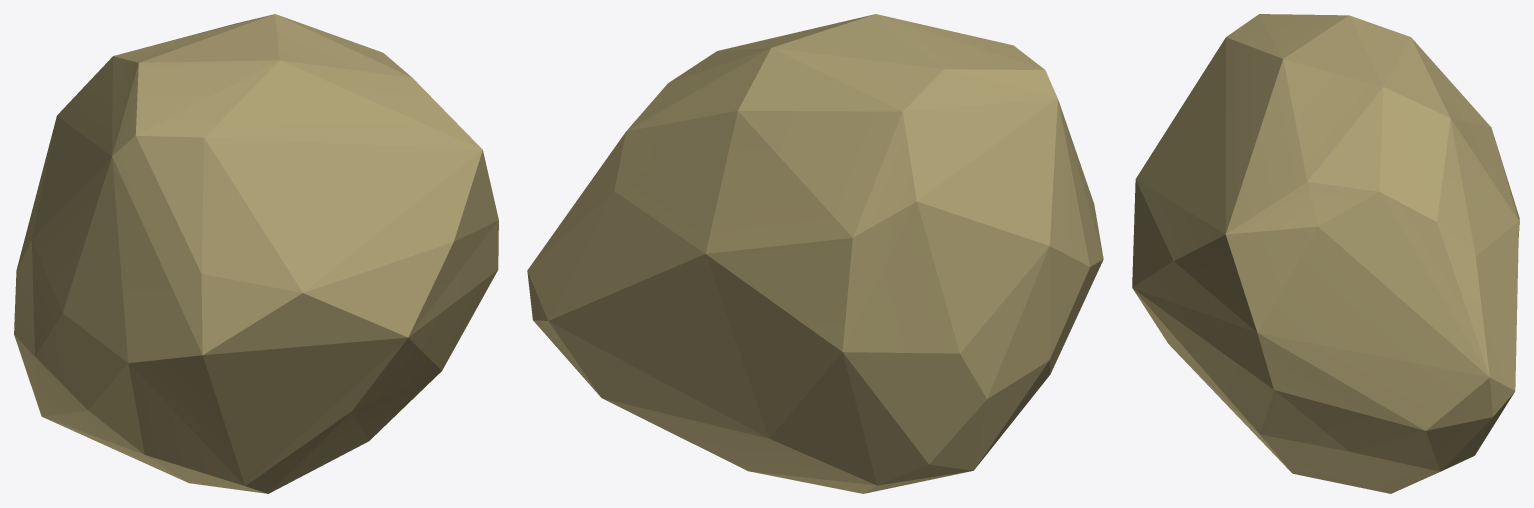
Rendered from SM_small_rock_31.fbx.
3 renders of one model, left to right at view 1: azimuth 30°, elevation 25°; view 2: azimuth 150°, elevation 25°; view 3: azimuth 270°, elevation 25°, orthographic. The views are drawn at different scales.
Visible parts, largest first — view 1: small_rock_31; view 2: small_rock_31; view 3: small_rock_31.
Part boxes in pixels (box(x1,y1,x2,y2)): small_rock_31: box(14, 14, 498, 493); small_rock_31: box(527, 14, 1103, 493); small_rock_31: box(1132, 14, 1519, 493).
Bounding box in the file's own units: 87.24 × 78.92 × 69.28.
